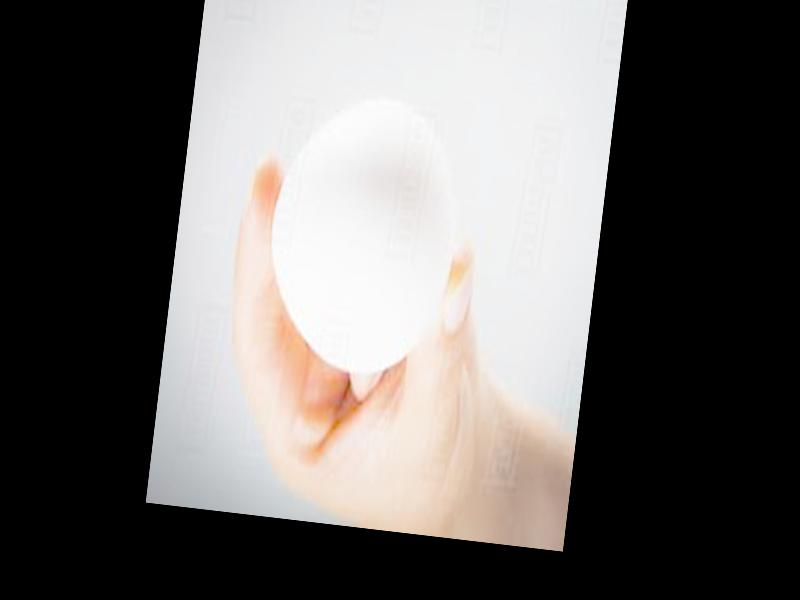Eggs: (256, 88, 466, 379)
